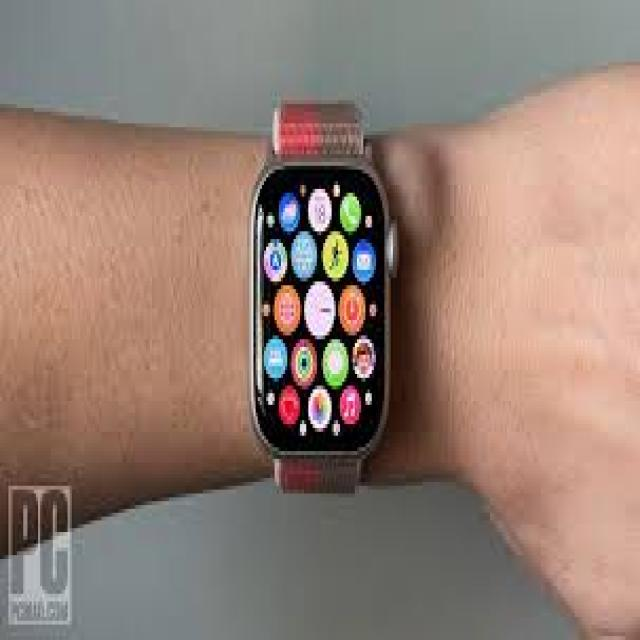objects: (248, 101, 402, 499)
